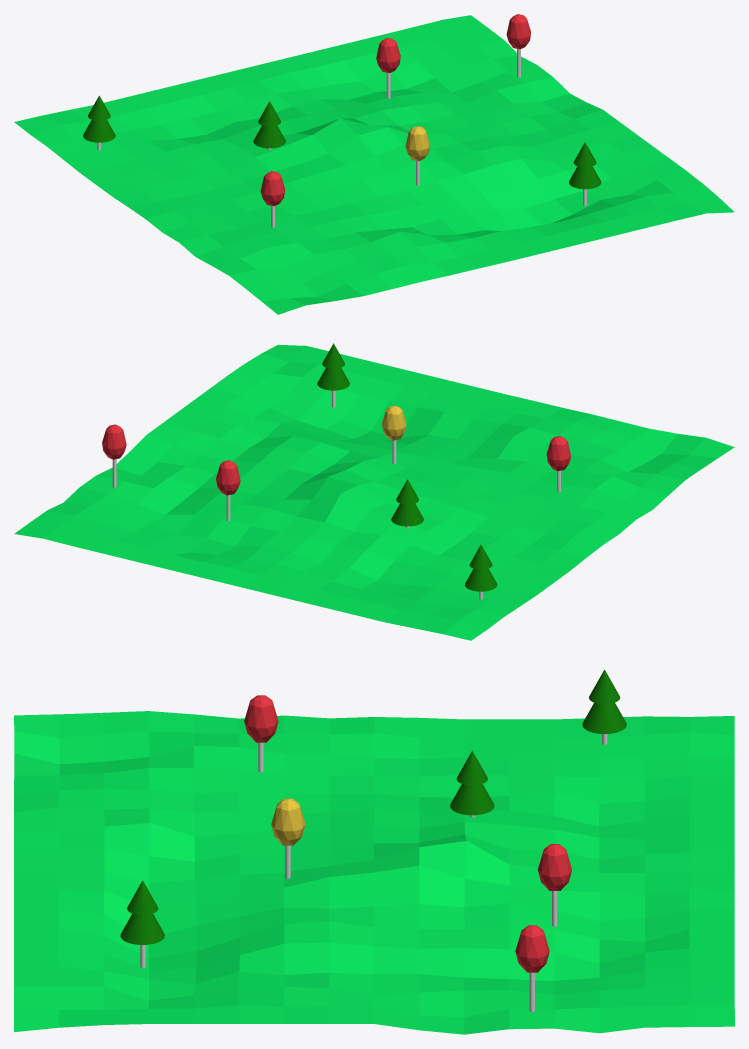
The model's file is forest.glb.
3 renders of one model, top to bottom at view 1: azimuth 30°, elevation 25°; view 2: azimuth 150°, elevation 25°; view 3: azimuth 270°, elevation 25°, orthographic. The views are drawn at different scales.
Parts seen in each view (by area): view 1: Ground, Icosphere, Icosphere.002, Icosphere.003, Icosphere.001, Cone, Cone.002, Cone.004; view 2: Ground, Icosphere.001, Icosphere.003, Icosphere, Icosphere.002, Cone, Cone.002, Cone.004; view 3: Ground, Icosphere.002, Icosphere.003, Icosphere, Icosphere.001, Cone, Cone.004, Cone.002, Cone.001, Cone.005, Cone.003.
Part boxes in pixels (bbox=[...]): Ground: bbox=[14, 15, 734, 314]; Icosphere: bbox=[405, 126, 429, 161]; Icosphere.002: bbox=[260, 171, 285, 206]; Icosphere.003: bbox=[506, 14, 530, 49]; Icosphere.001: bbox=[376, 38, 400, 72]; Cone: bbox=[253, 125, 285, 148]; Cone.002: bbox=[569, 166, 601, 189]; Cone.004: bbox=[83, 120, 115, 142]; Ground: bbox=[14, 344, 734, 640]; Icosphere.001: bbox=[216, 460, 240, 495]; Icosphere.003: bbox=[102, 424, 126, 459]; Icosphere: bbox=[382, 405, 406, 440]; Icosphere.002: bbox=[546, 436, 571, 471]; Cone: bbox=[391, 503, 423, 526]; Cone.002: bbox=[317, 367, 349, 390]; Cone.004: bbox=[465, 568, 497, 591]; Ground: bbox=[14, 711, 734, 1034]; Icosphere.002: bbox=[244, 695, 278, 742]; Icosphere.003: bbox=[515, 925, 549, 972]; Icosphere: bbox=[271, 798, 305, 845]; Icosphere.001: bbox=[538, 844, 571, 890]; Cone: bbox=[450, 784, 494, 815]; Cone.004: bbox=[582, 702, 626, 733]; Cone.002: bbox=[120, 913, 164, 944]; Cone.001: bbox=[456, 750, 487, 785]; Cone.005: bbox=[589, 669, 620, 704]; Cone.003: bbox=[127, 880, 158, 915].
Size of the model in its own units: 32.38 by 5.45 by 32.39.
